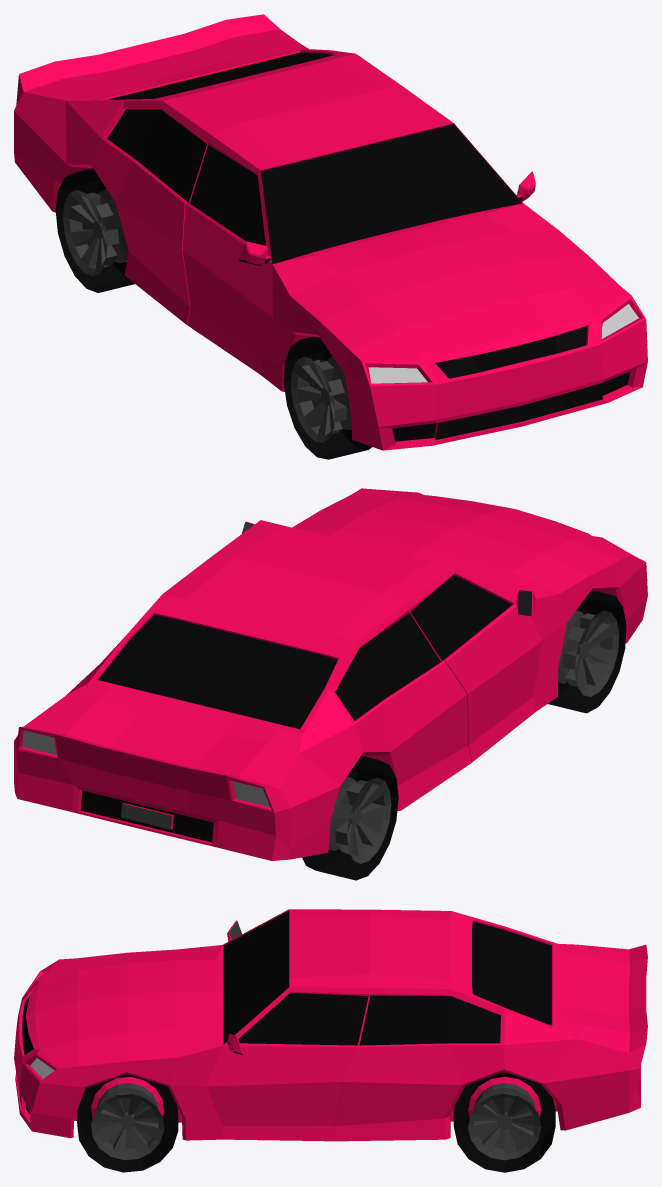
File: car_1_pink.obj
The picture shows the model from 3 angles, top to bottom: view 1: azimuth 30°, elevation 25°; view 2: azimuth 150°, elevation 25°; view 3: azimuth 270°, elevation 25°; orthographic projection. The views are drawn at different scales.
Parts seen in each view (by area): view 1: Cube; view 2: Cube; view 3: Cube.
Boxes of the visible parts, <box> form: Cube: <box>14,14,647,459</box>; Cube: <box>14,488,647,880</box>; Cube: <box>14,909,647,1172</box>.
Bounding box in the file's own units: 1.63 × 1.1 × 3.68.
